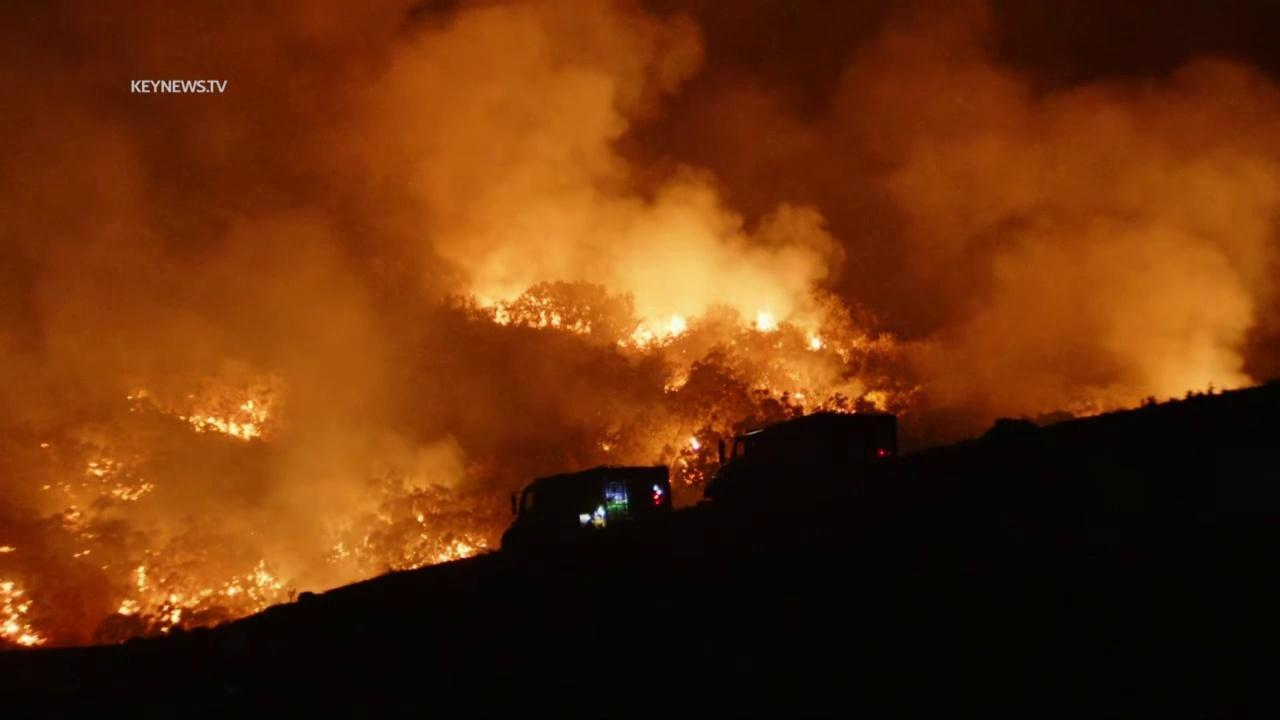fire: (157, 556, 285, 636), (467, 288, 572, 331), (186, 397, 270, 444), (0, 576, 49, 648), (83, 457, 157, 503), (403, 533, 488, 572), (615, 310, 691, 353), (754, 300, 781, 335), (326, 538, 352, 566), (804, 323, 827, 352), (118, 598, 144, 618), (133, 565, 150, 595), (678, 457, 696, 485), (72, 548, 92, 561), (413, 512, 429, 527), (689, 437, 702, 452), (0, 544, 16, 555), (793, 390, 807, 401), (599, 441, 611, 452), (837, 407, 856, 413), (698, 468, 704, 483), (847, 434, 847, 435)
smoke: (0, 0, 1280, 658)
